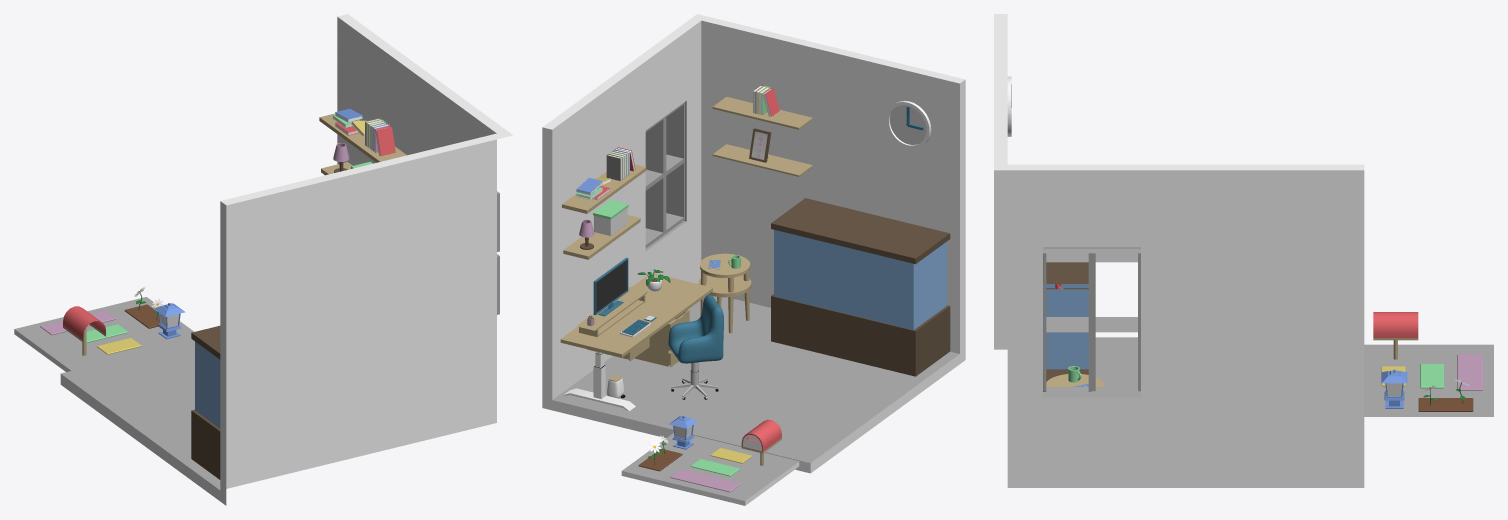
The model's file is room-portfolio.glb.
3 views of the same model, side by side, from view 1: azimuth 30°, elevation 25°; view 2: azimuth 150°, elevation 25°; view 3: azimuth 270°, elevation 25° (orthographic). The views are drawn at different scales.
Parts seen in each view (by area): view 1: Cube.003, Cube.119, Cube.109, Cube.110, Cylinder.009, Table Top.006, Plane.004; view 2: Cube.003, Cube.109, Cube.110, Cube.119, Plane, Table Top, chair, Cylinder.008, computer table, Table Top.003, Table Top.002, Table Top.006 (+16 smaller); view 3: Cube.003, Cube.119, Plane, Cube.110, Cylinder.009, Cube.109, Plane.013, Plane.008, Plane.004, Plane.012.
Part boxes in pixels (x1,y1,x2,y2): Cube.003: [60, 14, 512, 505]; Cube.119: [14, 297, 194, 371]; Cube.109: [191, 325, 220, 479]; Cube.110: [195, 341, 220, 428]; Cylinder.009: [63, 306, 105, 342]; Table Top.006: [319, 113, 406, 162]; Plane.004: [154, 303, 185, 339]; Cube.003: [542, 14, 965, 473]; Cube.109: [771, 198, 950, 376]; Cube.110: [774, 230, 946, 329]; Cube.119: [621, 433, 799, 505]; Plane: [645, 102, 684, 248]; Table Top: [560, 273, 712, 357]; chair: [668, 294, 723, 363]; Cylinder.008: [886, 100, 931, 148]; computer table: [576, 287, 647, 337]; Table Top.003: [712, 144, 812, 176]; Table Top.002: [712, 96, 812, 129]; Table Top.006: [562, 164, 646, 213]; Cube.003: [994, 14, 1364, 487]; Cube.119: [1364, 344, 1493, 416]; Plane: [1043, 247, 1140, 397]; Cube.110: [1043, 284, 1088, 369]; Cylinder.009: [1373, 312, 1418, 340]; Cube.109: [1043, 253, 1088, 391]; Plane.013: [1457, 354, 1483, 390]; Plane.008: [1418, 398, 1473, 411]; Plane.004: [1381, 369, 1407, 408]; Plane.012: [1420, 364, 1443, 388].
Size of the model in its own units: 10.82 by 10.46 by 14.12.
25 materials, 1 textured.
